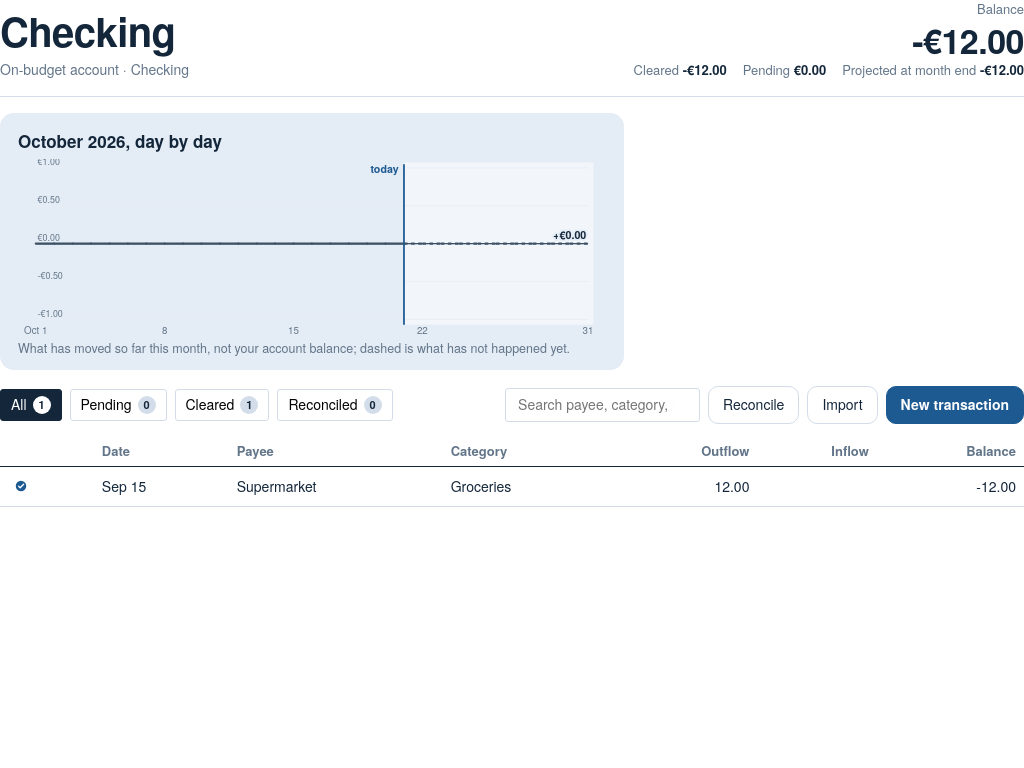
AccountRegisterScreen (#54, #333) › opens the edit form for a non-reconciled transaction
Click the button "Supermarket" at {"x": 336, "y": 487}, box [237,476,435,497]
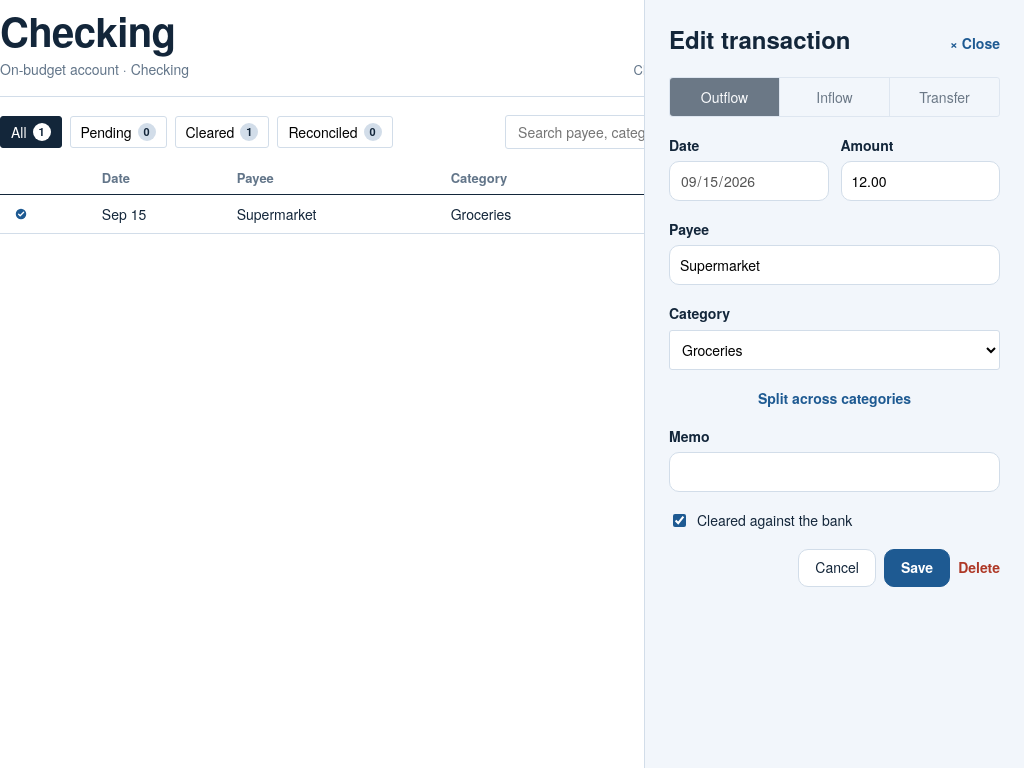
Check: the heading "Edit transaction" is shown, box [669,22,850,57]
